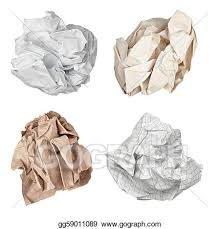crumpled paper: (103, 113, 206, 199), (13, 110, 94, 207), (10, 14, 97, 93), (115, 11, 197, 91)
